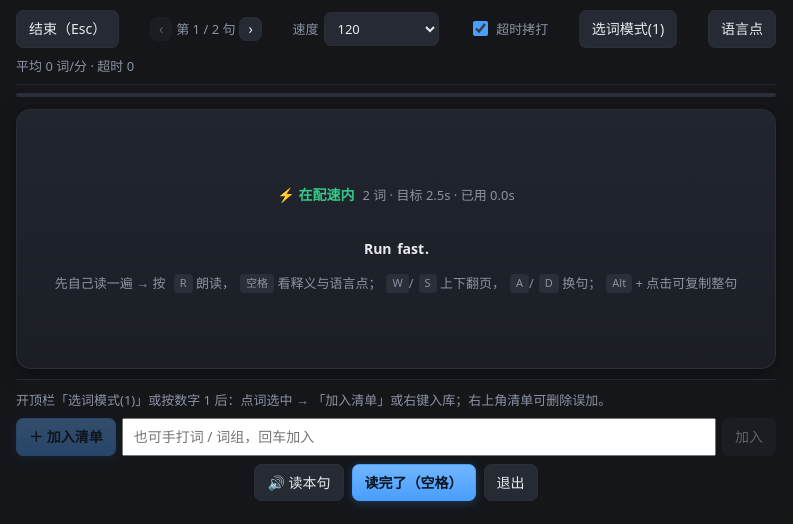
it: SpeedReadPanel：逐句阅读 › 空格揭示译文，再空格进入下一句
Check: the text "跑快点。" is not shown
Press Space
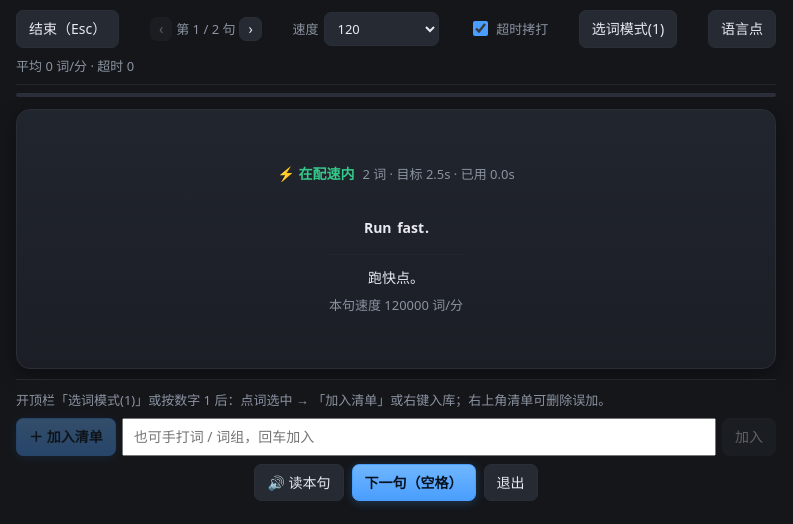
Check: the text "跑快点。" is shown, box [368,268,424,287]
Click the button "下一句（空格）" at coordinates (414, 483), box [352,464,476,501]
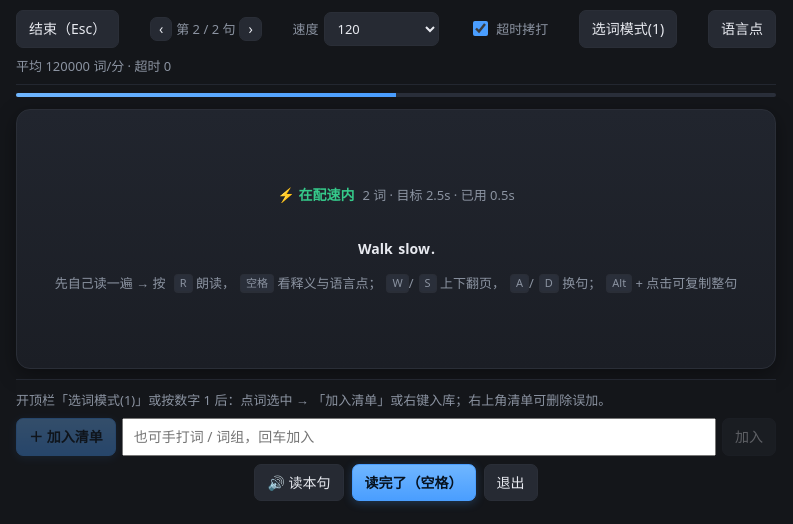
Check: the text "第 2 / 2 句" is shown, box [176,19,235,39]
Check: the text "跑快点。" is gone
